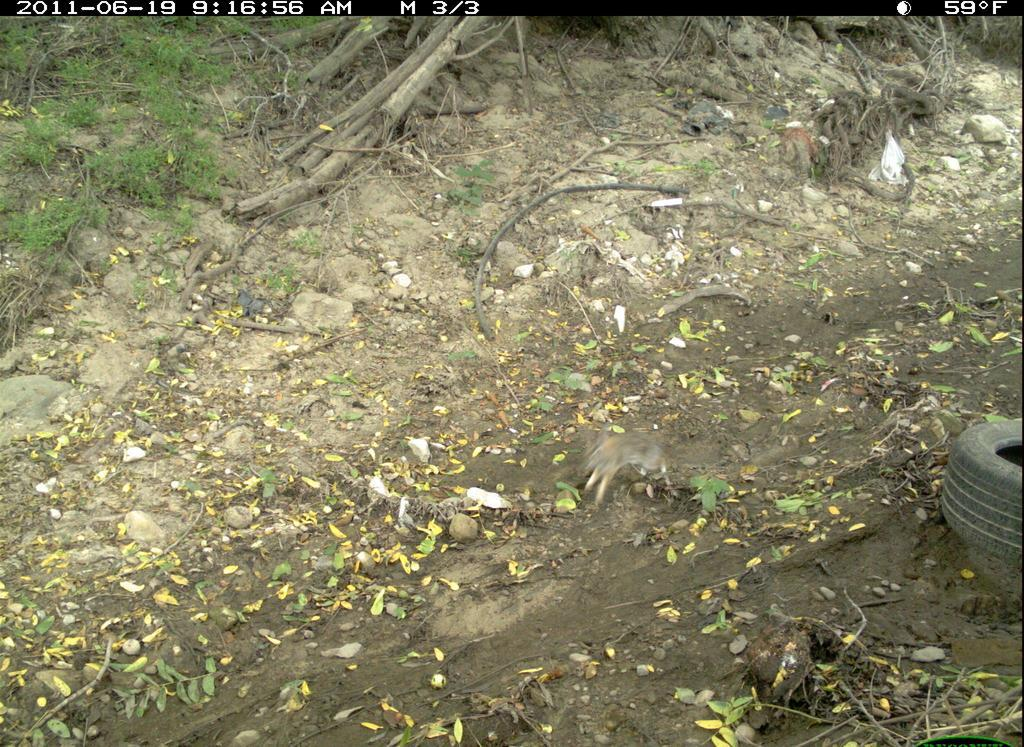rabbit: (573, 417, 678, 510)
